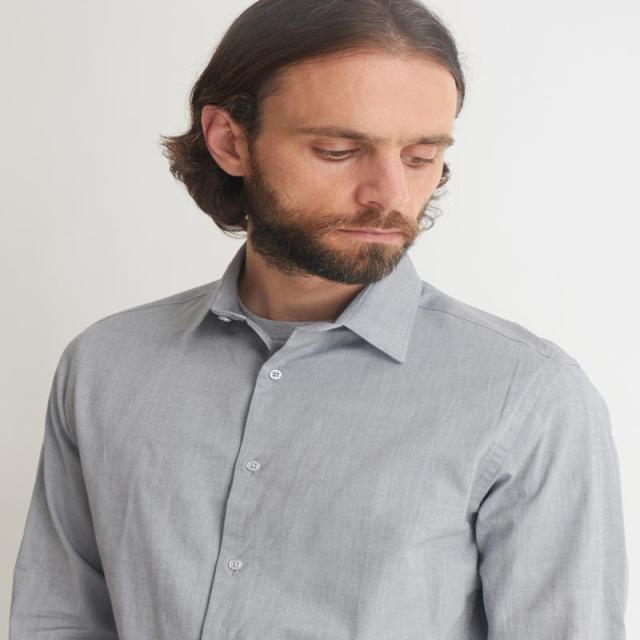human: (6, 10, 640, 640)
